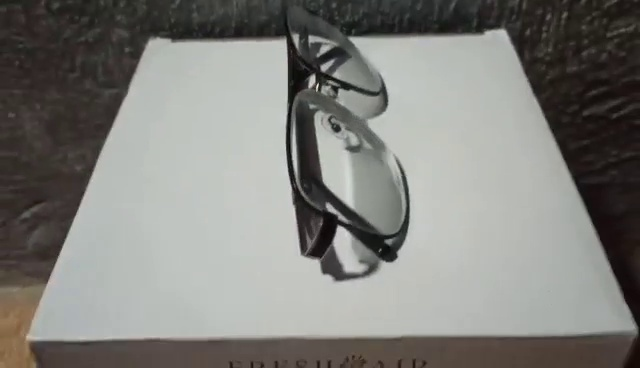glasses: (283, 1, 413, 278)
